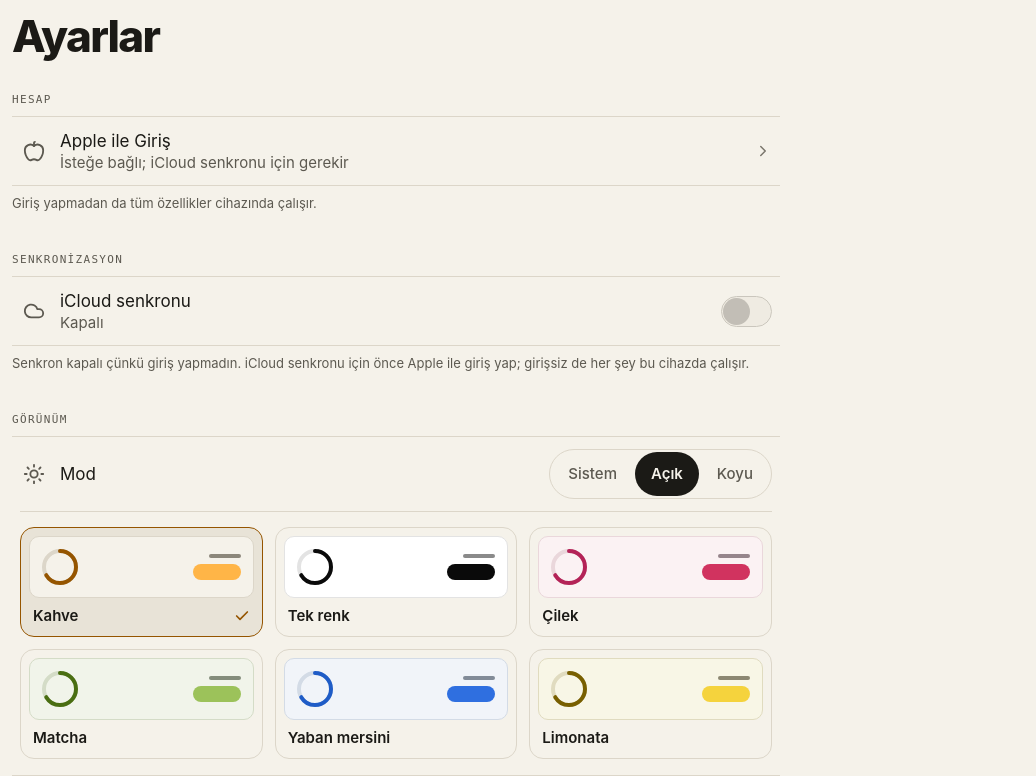
SettingsScreen · hesap ve senkron › signs in with the mock Apple account and links it to the profile
Click the button "Apple ile Giriş İsteğe bağlı; iCloud senkronu için gerekir" at (115, 141), box [12,117,780,185]
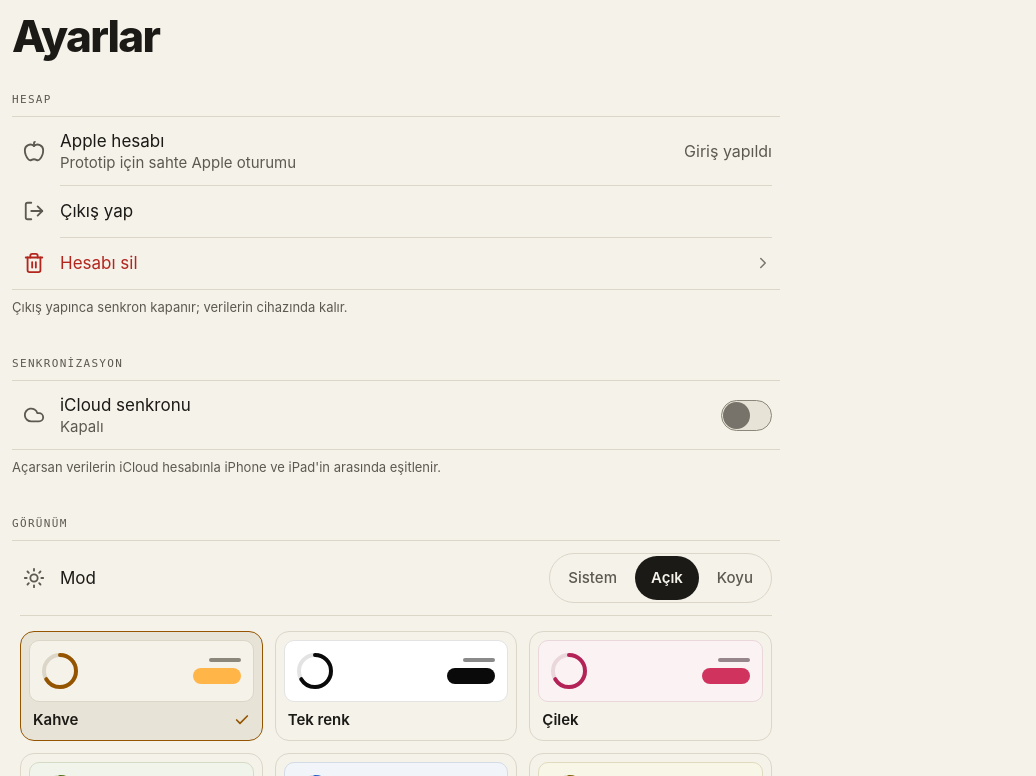
Expected: the button "Çıkış yap" is shown, [12,185,780,237]
Expected: the button "Hesabı sil" is shown, [12,237,780,289]
Expected: the switch named "iCloud senkronu" is enabled, [721,393,772,437]
